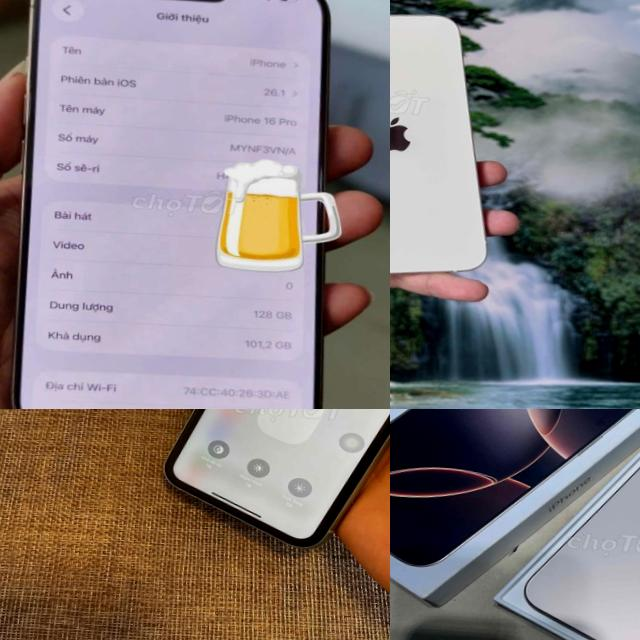gen_11: (165, 409, 390, 547)
gen_14: (390, 4, 503, 293)
gen_16: (13, 0, 343, 409), (518, 409, 640, 640)
